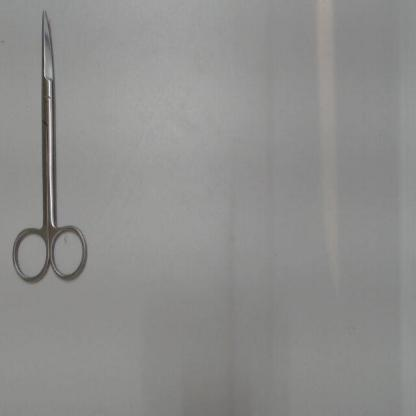Curved Mayo Scissors: (8, 6, 90, 290)
